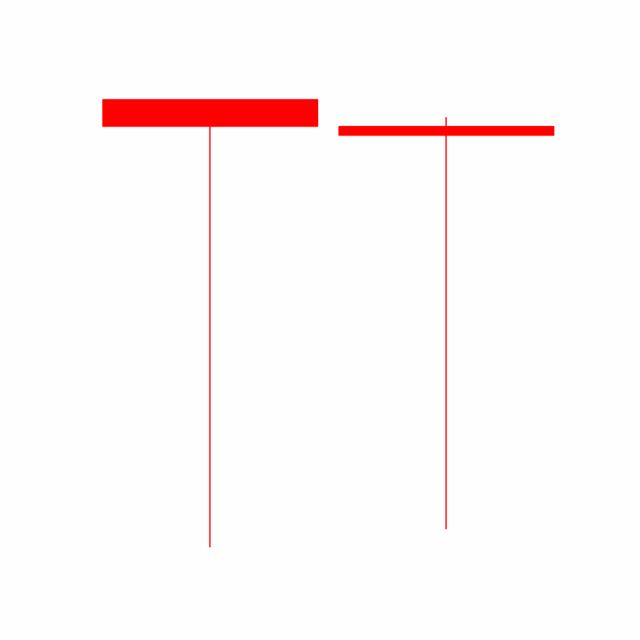Dragonfly Doji: (327, 112, 565, 534)
